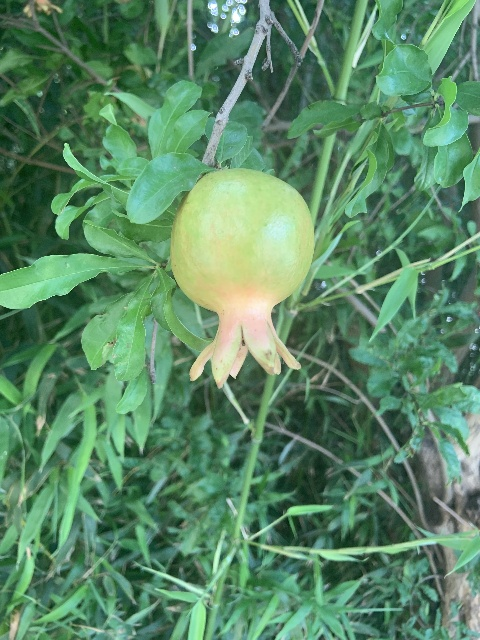mid-growth: (169, 168, 316, 389)
